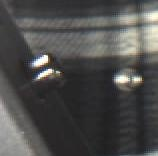screw: (20, 50, 66, 97)
